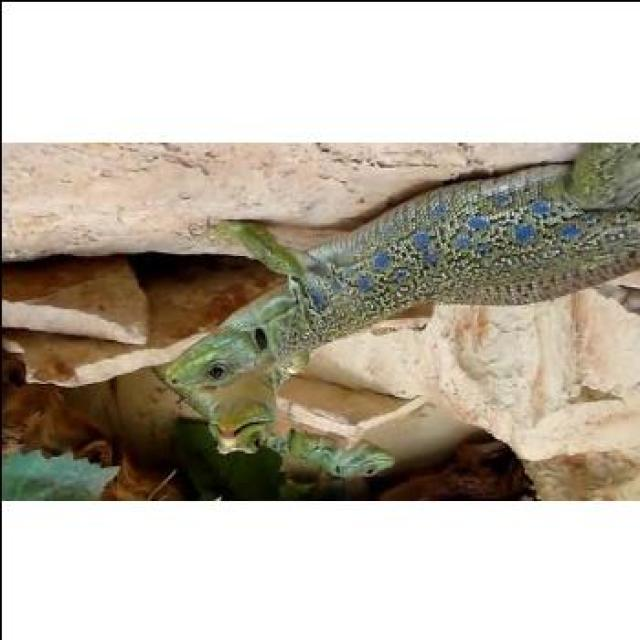Lizard: (166, 153, 640, 392)
